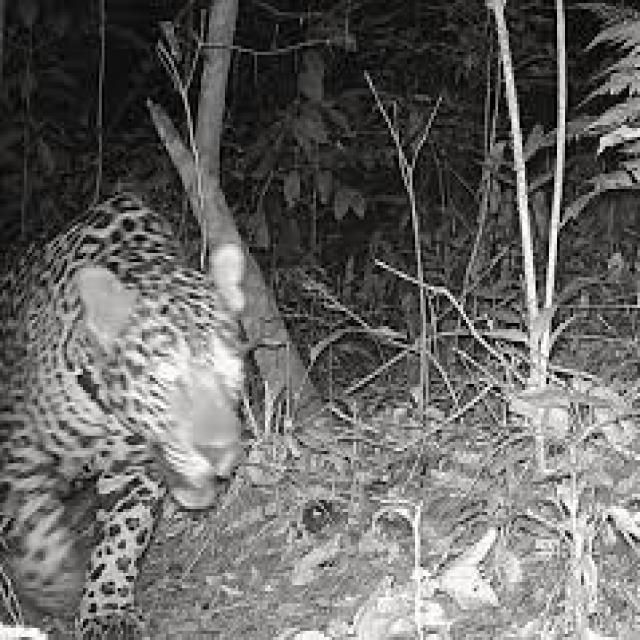Jaguar: (3, 198, 249, 640)
